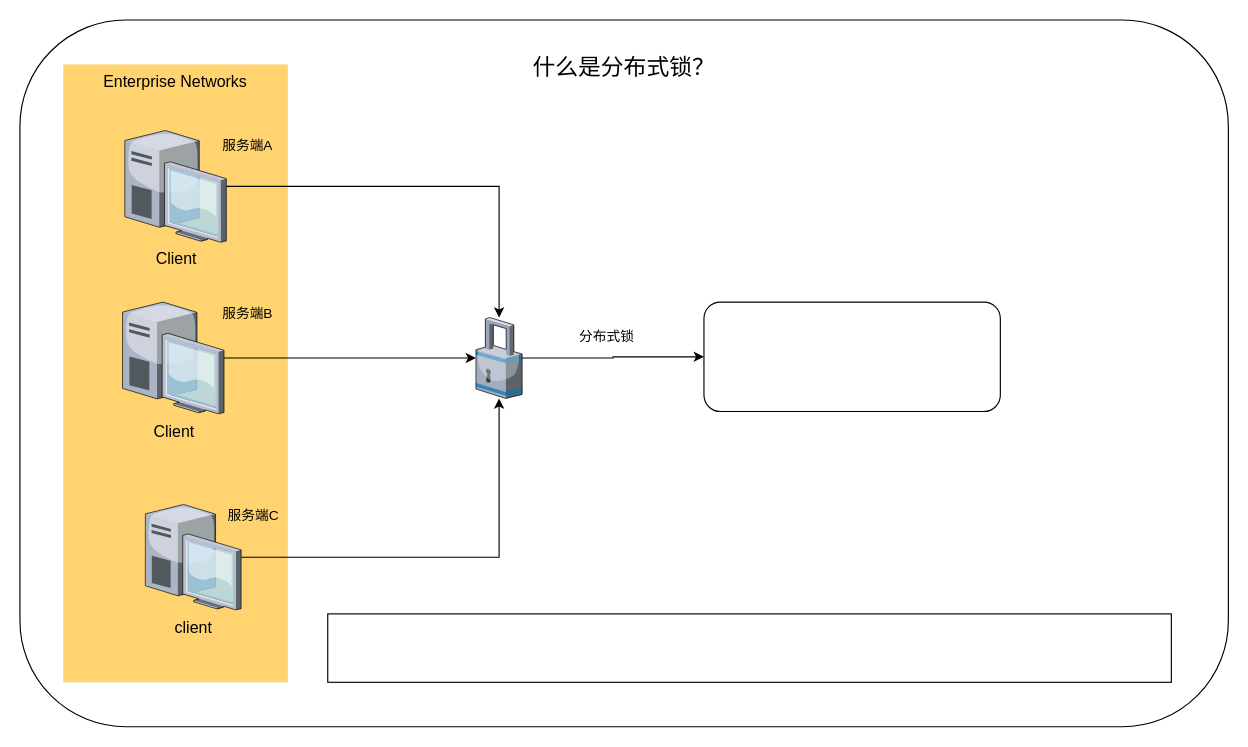
The diagram is 1248 pixels wide and 747 high, and some of its shapes have lost their labels. Each missing label, with the centre of its shape:
"共有资源" belongs at (851,356).
"分布式系统中控制多个进程对共有资源的访问" belongs at (749,647).
